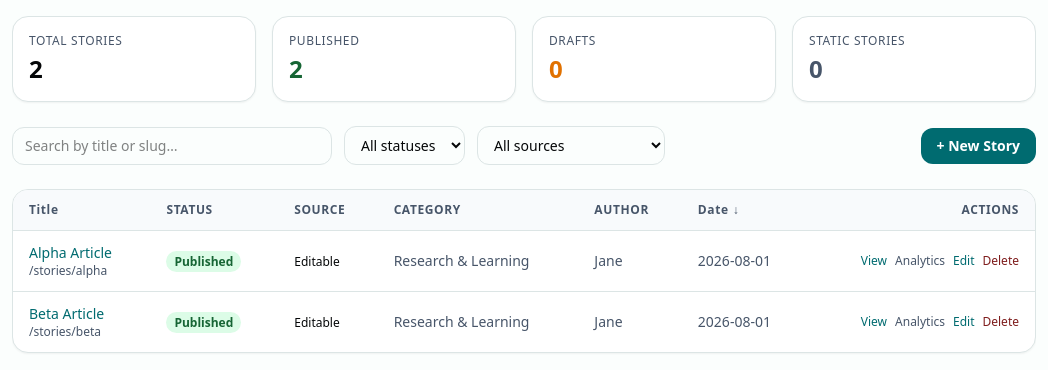
Test case: StoriesWorkspace — search › filters stories by title
This screenshot has width=1048, height=370.
Type "alpha" into the search field with placeholder "Search by title or slug…".
click(172, 146); type("alpha")  # box [12,126,332,164]
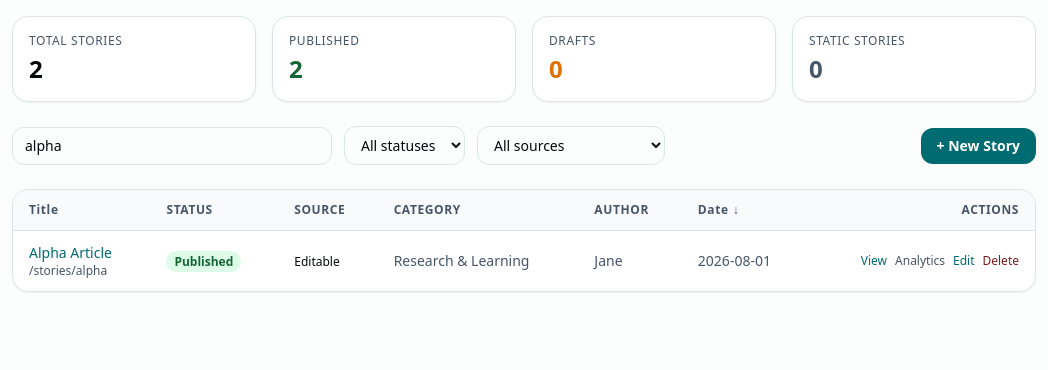
Expected: the link "Alpha Article" is shown, [29,243,112,262]
Expected: the link "Beta Article" is gone
